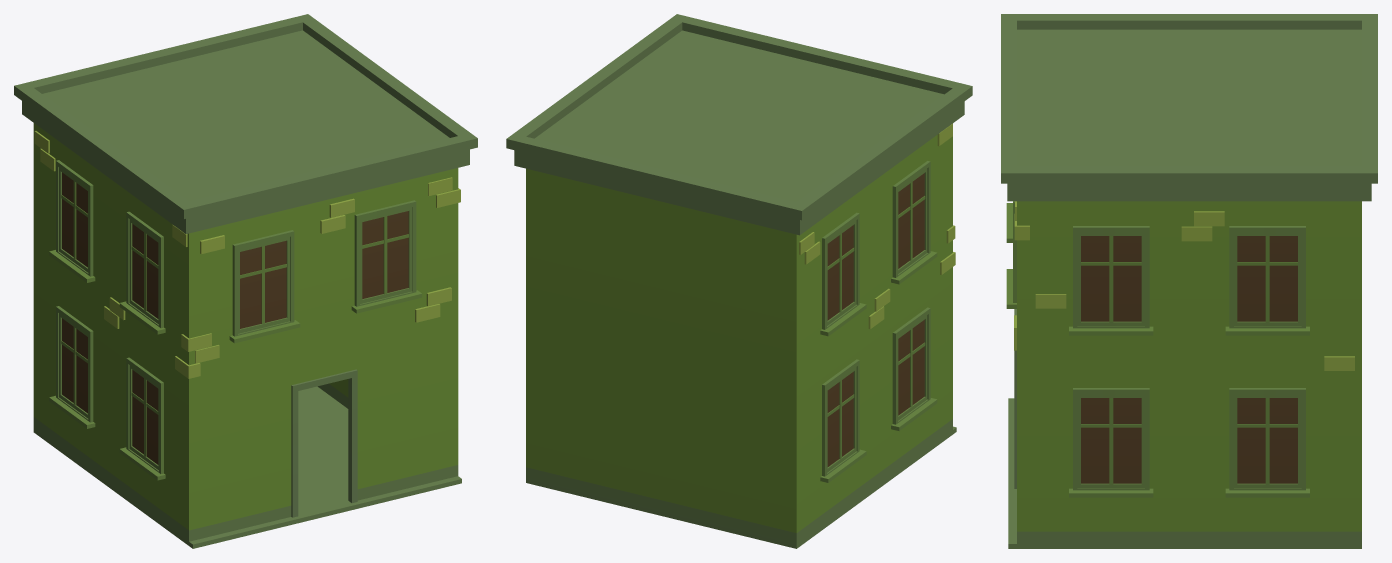
File: House_09.fbx
3 renders of one model, left to right at view 1: azimuth 30°, elevation 25°; view 2: azimuth 150°, elevation 25°; view 3: azimuth 270°, elevation 25°, orthographic. The views are drawn at different scales.
Parts seen in each view (by area): view 1: House_09; view 2: House_09; view 3: House_09.
Boxes of the visible parts, x1,y1,x2,y2 form: House_09: (14,14,477,548); House_09: (506,14,972,548); House_09: (1001,14,1377,548).
Bounding box in the file's own units: 4.92 × 5.51 × 4.92.
